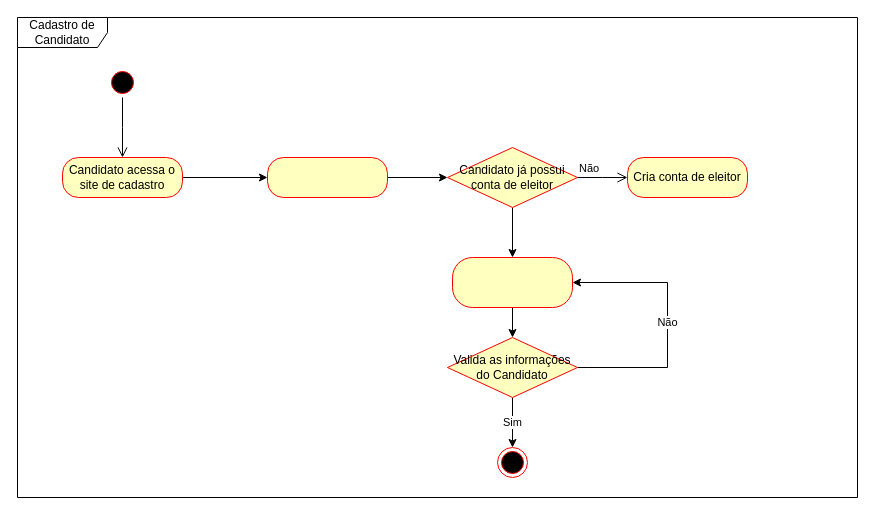
The diagram is 875 pixels wide and 515 high, and some of its shapes have lost their labels. Here are the shapes that lost their labels. From the top down, the box of each, then its label:
(266, 156, 388, 198): Candidato tenta criar conta de candidato
(452, 256, 572, 308): Solicita as informações do Candidato
